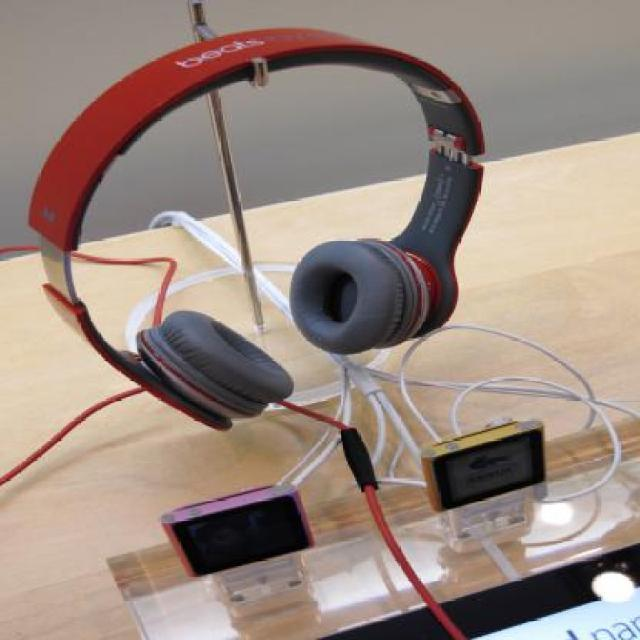earphone: (25, 0, 526, 408)
